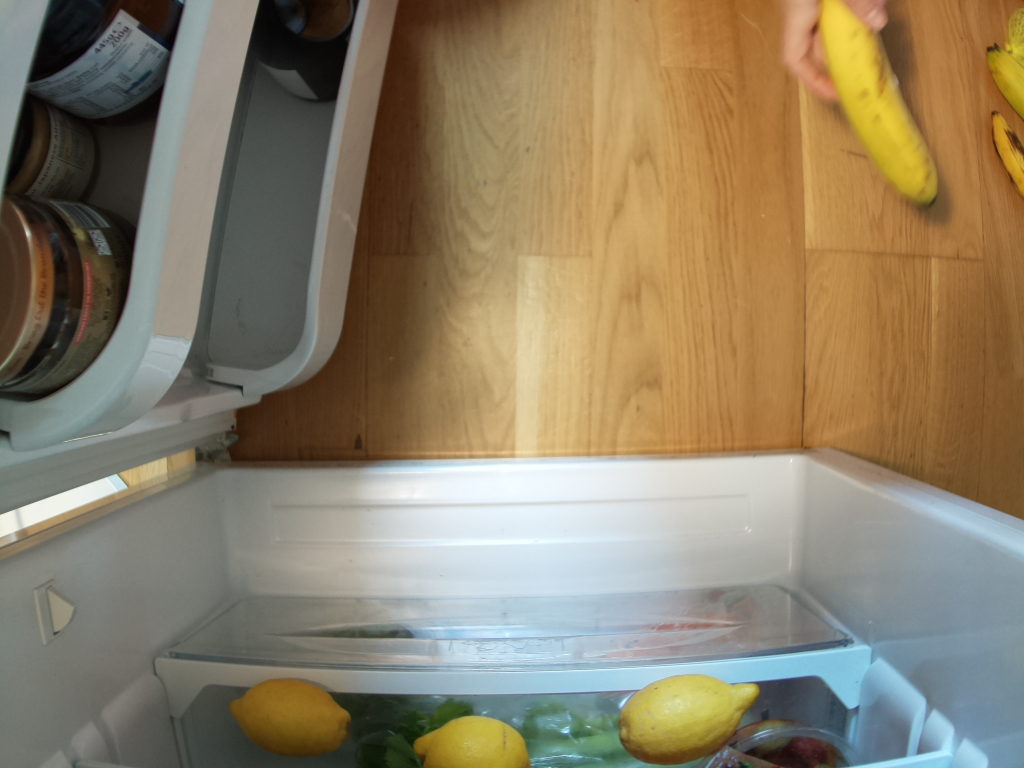banana: (819, 1, 945, 212)
